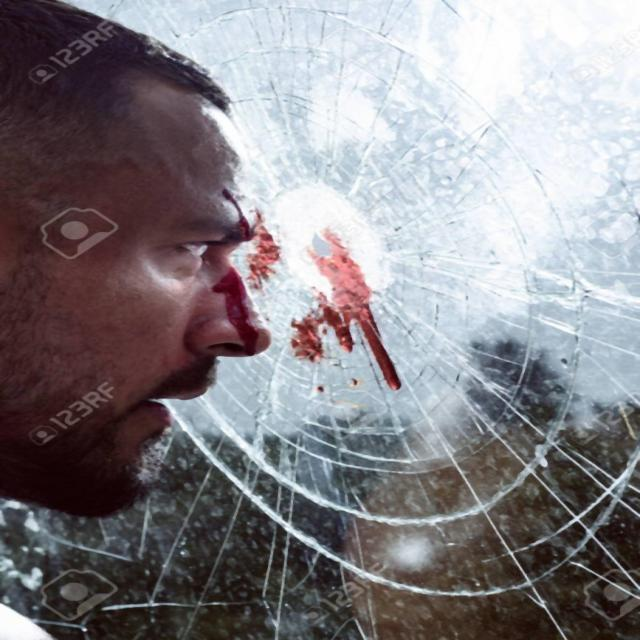flood: (156, 157, 438, 422)
